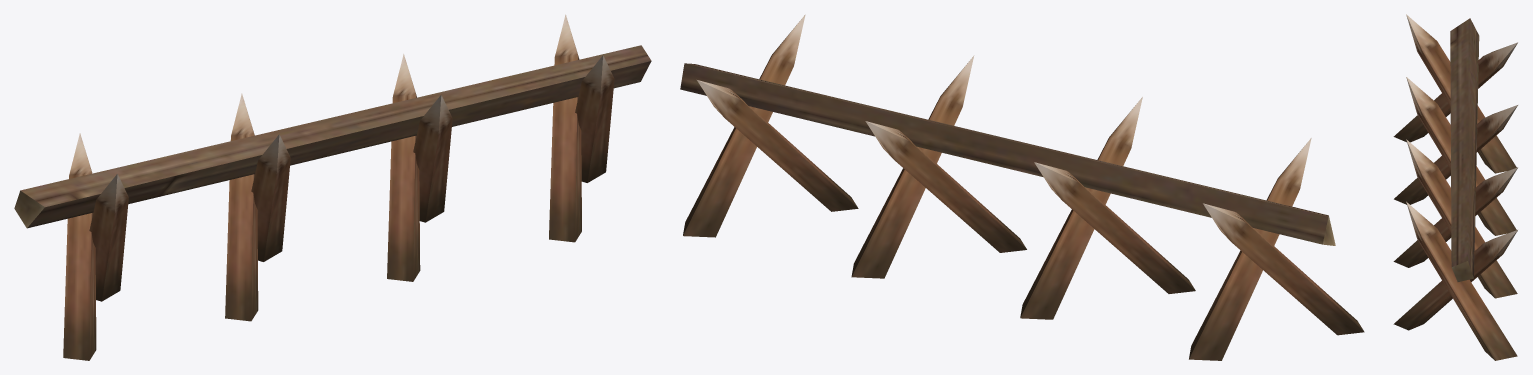
The model's file is juma01_R.fbx.
The picture shows the model from 3 angles, left to right: view 1: azimuth 30°, elevation 25°; view 2: azimuth 150°, elevation 25°; view 3: azimuth 270°, elevation 25°; orthographic projection. The views are drawn at different scales.
Parts seen in each view (by area): view 1: juma01_R; view 2: juma01_R; view 3: juma01_R.
Boxes of the visible parts, x1,y1,x2,y2 form: juma01_R: [14, 14, 651, 360]; juma01_R: [680, 14, 1364, 360]; juma01_R: [1393, 14, 1517, 360].
Size of the model in its own units: 4.24 by 1.13 by 0.9371.
